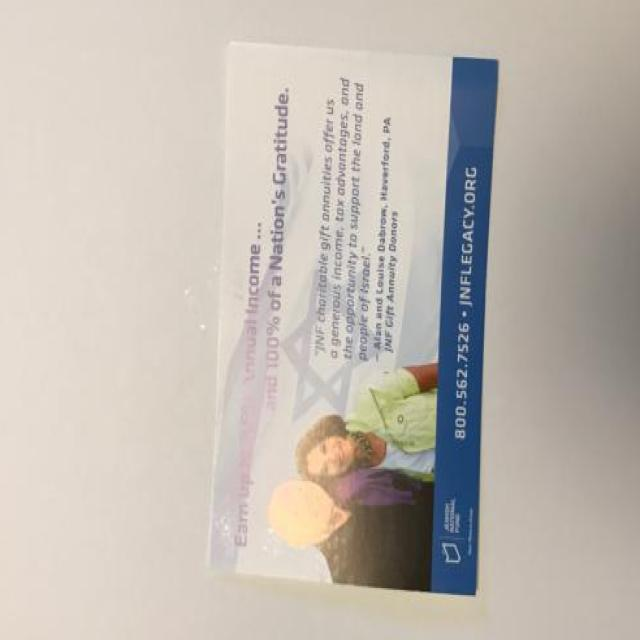kertas: (204, 38, 504, 598)
